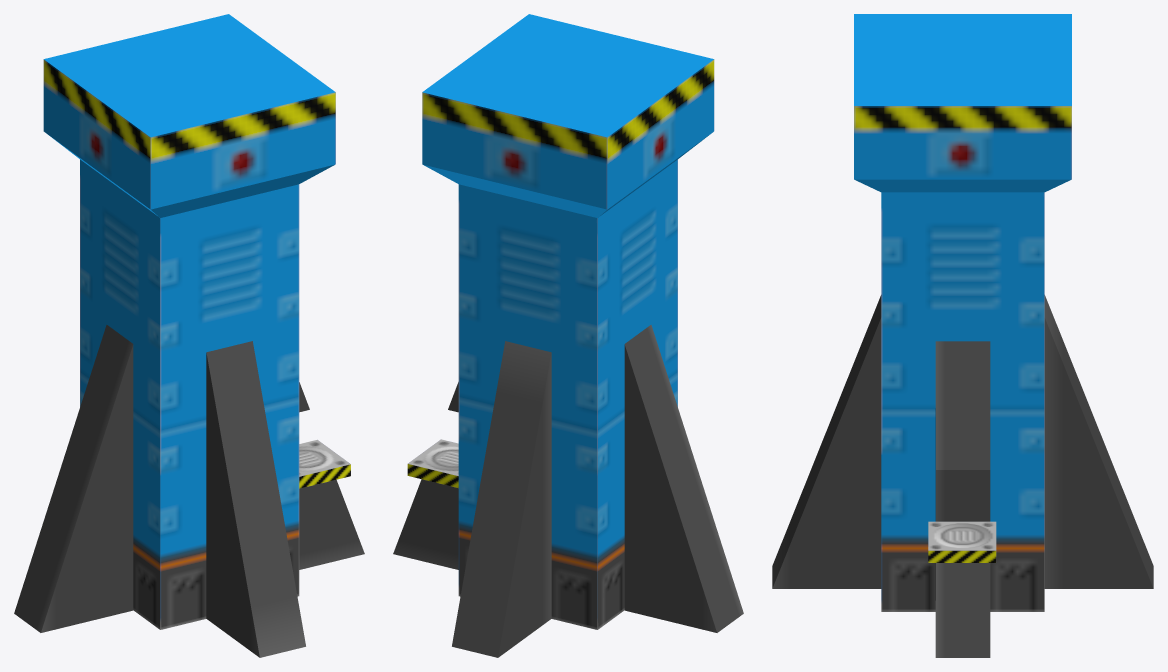
Rendered from tower.gltf.
3 renders of one model, left to right at view 1: azimuth 30°, elevation 25°; view 2: azimuth 150°, elevation 25°; view 3: azimuth 270°, elevation 25°, orthographic.
Visible parts, largest first — view 1: tower; view 2: tower; view 3: tower.
Part boxes in pixels (bbox=[...]): tower: bbox=[14, 14, 364, 657]; tower: bbox=[393, 14, 743, 657]; tower: bbox=[772, 14, 1153, 657].
Bounding box in the file's own units: 14 × 20.97 × 14.
Materials: 3 (3 with a texture image).
